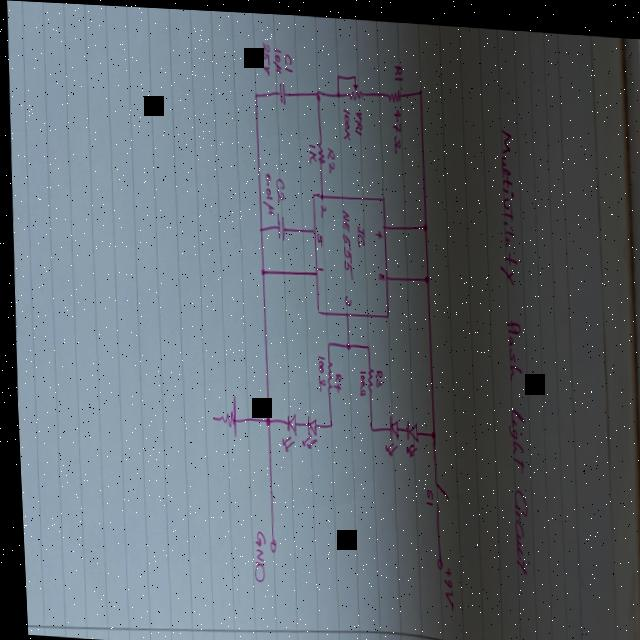capacitor: (273, 207, 284, 239), (276, 76, 286, 102)
diode: (378, 409, 395, 453), (295, 410, 314, 447), (276, 408, 293, 449), (399, 414, 415, 454)
ground: (205, 389, 234, 436)
junction: (425, 424, 432, 436), (420, 269, 427, 279), (341, 337, 348, 347), (313, 86, 318, 98), (257, 263, 263, 273), (261, 414, 267, 424), (420, 217, 425, 227), (256, 223, 261, 231), (417, 83, 421, 92), (323, 336, 327, 345), (334, 87, 338, 95), (325, 418, 329, 426), (362, 339, 366, 347), (365, 420, 369, 428), (334, 69, 338, 76), (252, 88, 256, 95), (351, 69, 355, 75)
resistor: (346, 77, 363, 97), (362, 362, 372, 392), (322, 354, 330, 388), (314, 135, 324, 162), (386, 84, 400, 98)
switch: (429, 476, 444, 502)
terminal: (430, 550, 437, 565), (264, 535, 270, 551)
text: (485, 119, 533, 570), (337, 205, 351, 277), (247, 527, 261, 579), (259, 168, 273, 213), (436, 561, 449, 606), (389, 102, 401, 150), (259, 38, 271, 73), (312, 351, 323, 389), (339, 103, 349, 138), (271, 43, 282, 70), (272, 173, 283, 200), (354, 365, 363, 393), (352, 105, 361, 133), (327, 368, 338, 390), (305, 139, 315, 162), (325, 142, 333, 170), (354, 220, 363, 244), (282, 49, 292, 69), (370, 364, 379, 384), (392, 60, 402, 77), (420, 483, 428, 501), (317, 199, 324, 215), (340, 290, 349, 302), (314, 228, 320, 244), (372, 225, 380, 235), (375, 267, 381, 277), (311, 262, 320, 268)
